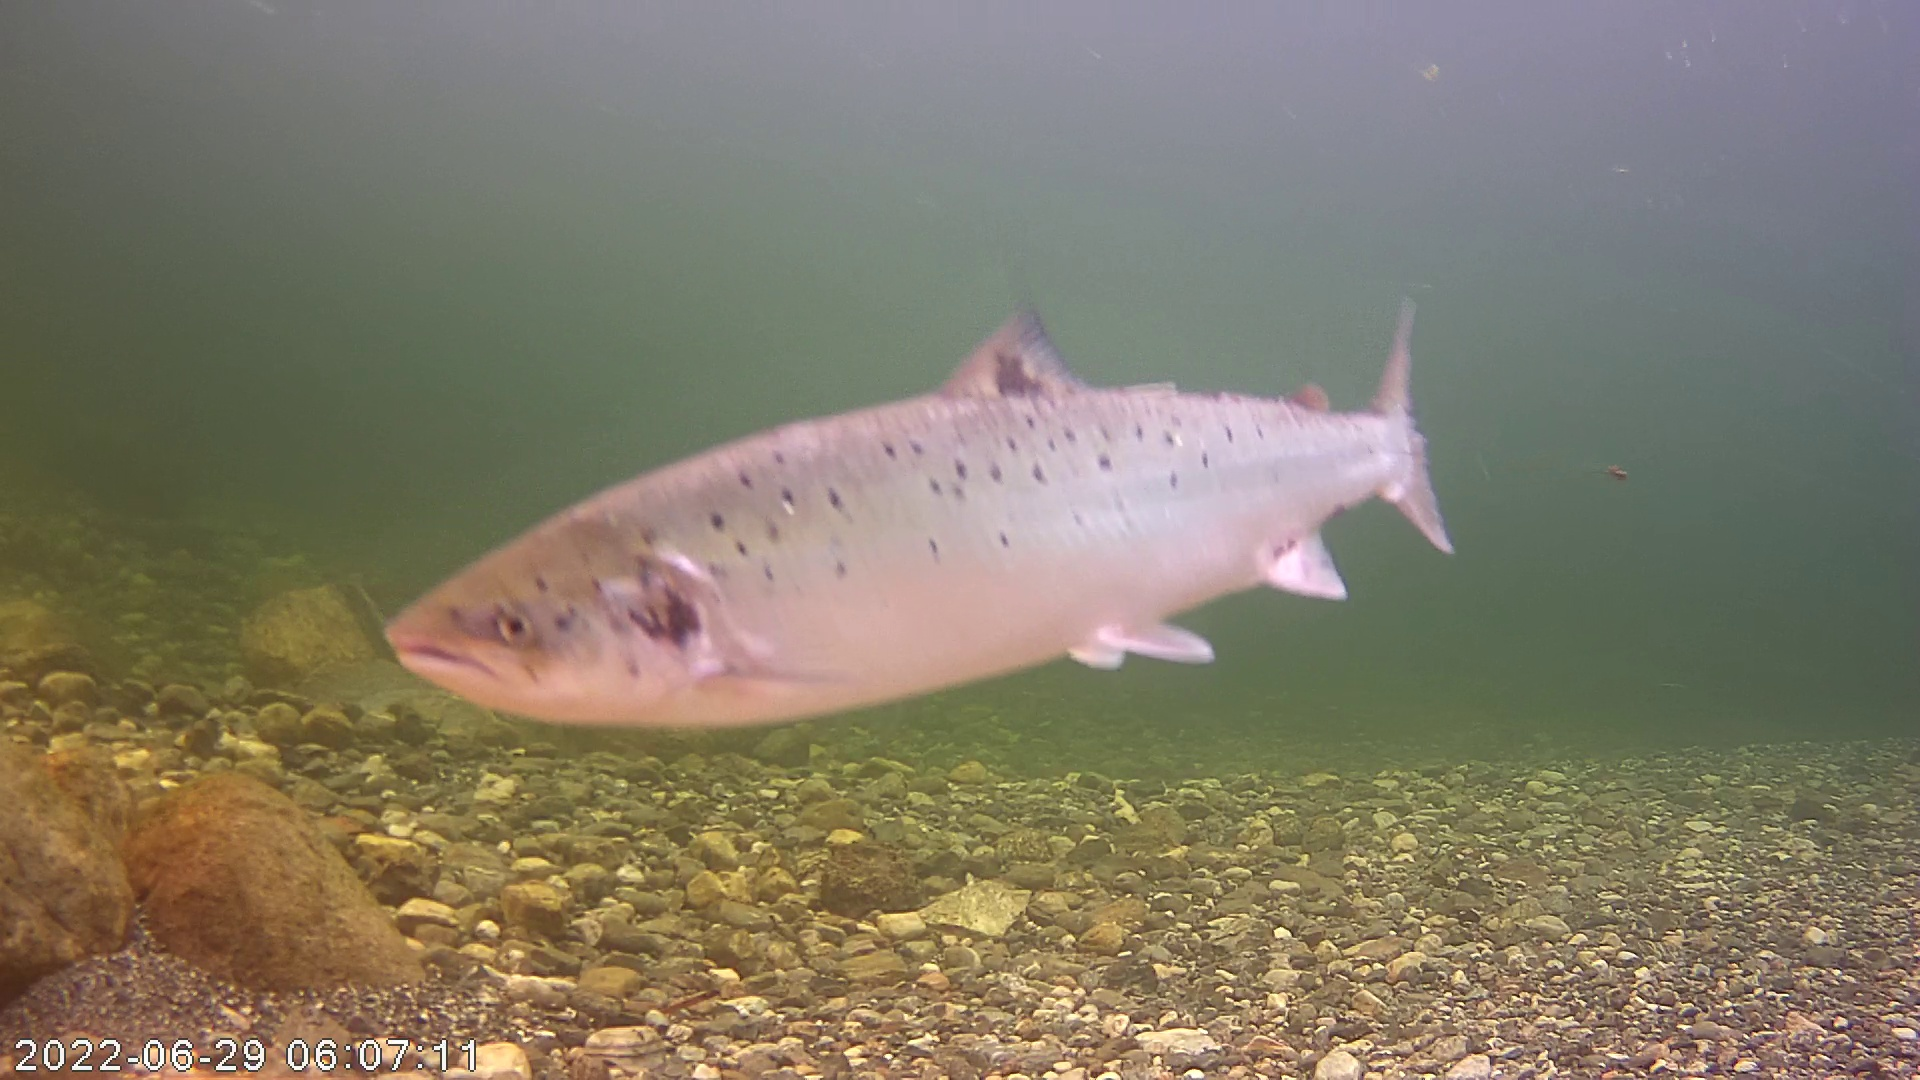salmon: (393, 240, 1441, 725)
